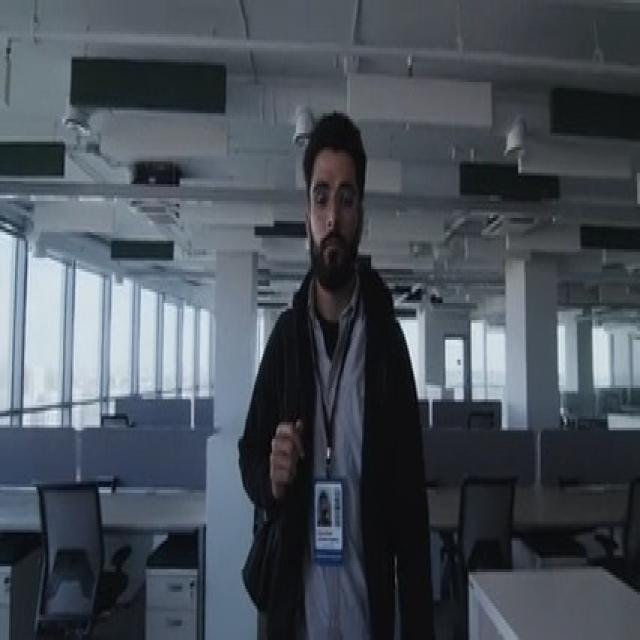Jacket_Wearer: (236, 260, 434, 628)
Person: (235, 112, 432, 640)
